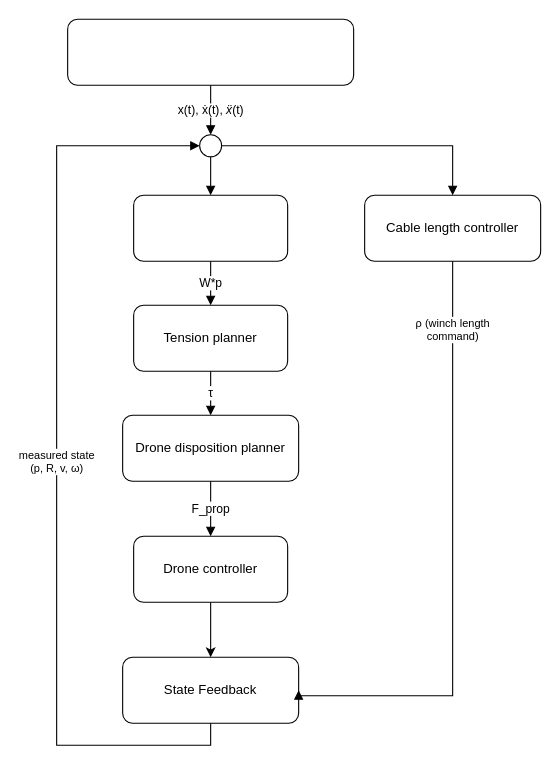
The diagram is 560 pixels wide and 773 high, and some of its shapes have lost their labels. Here are the shapes that lost their labels. From the top down, the centre of each, then its label:
At [210,51]: "Trajectory planner".
At [210,227]: "Payload Controller".
